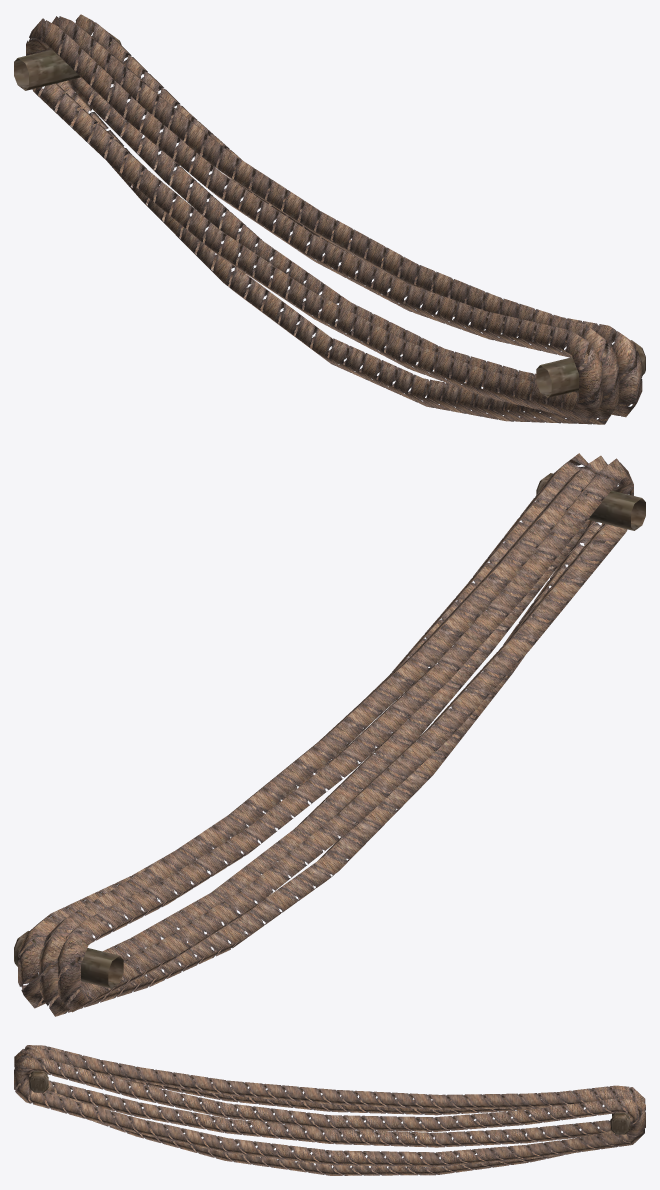
3 renders of one model, top to bottom at view 1: azimuth 30°, elevation 25°; view 2: azimuth 150°, elevation 25°; view 3: azimuth 270°, elevation 25°, orthographic. The views are drawn at different scales.
Parts seen in each view (by area): view 1: SM_DR_Rope_05_LOD0; view 2: SM_DR_Rope_05_LOD0; view 3: SM_DR_Rope_05_LOD0.
Part boxes in pixels (x1,y1,x2,y2): SM_DR_Rope_05_LOD0: (14,14,645,424); SM_DR_Rope_05_LOD0: (14,453,645,1016); SM_DR_Rope_05_LOD0: (14,1045,645,1175).
Size of the model in its own units: 0.4115 by 0.9438 by 4.27.
2 materials, 2 textured.
